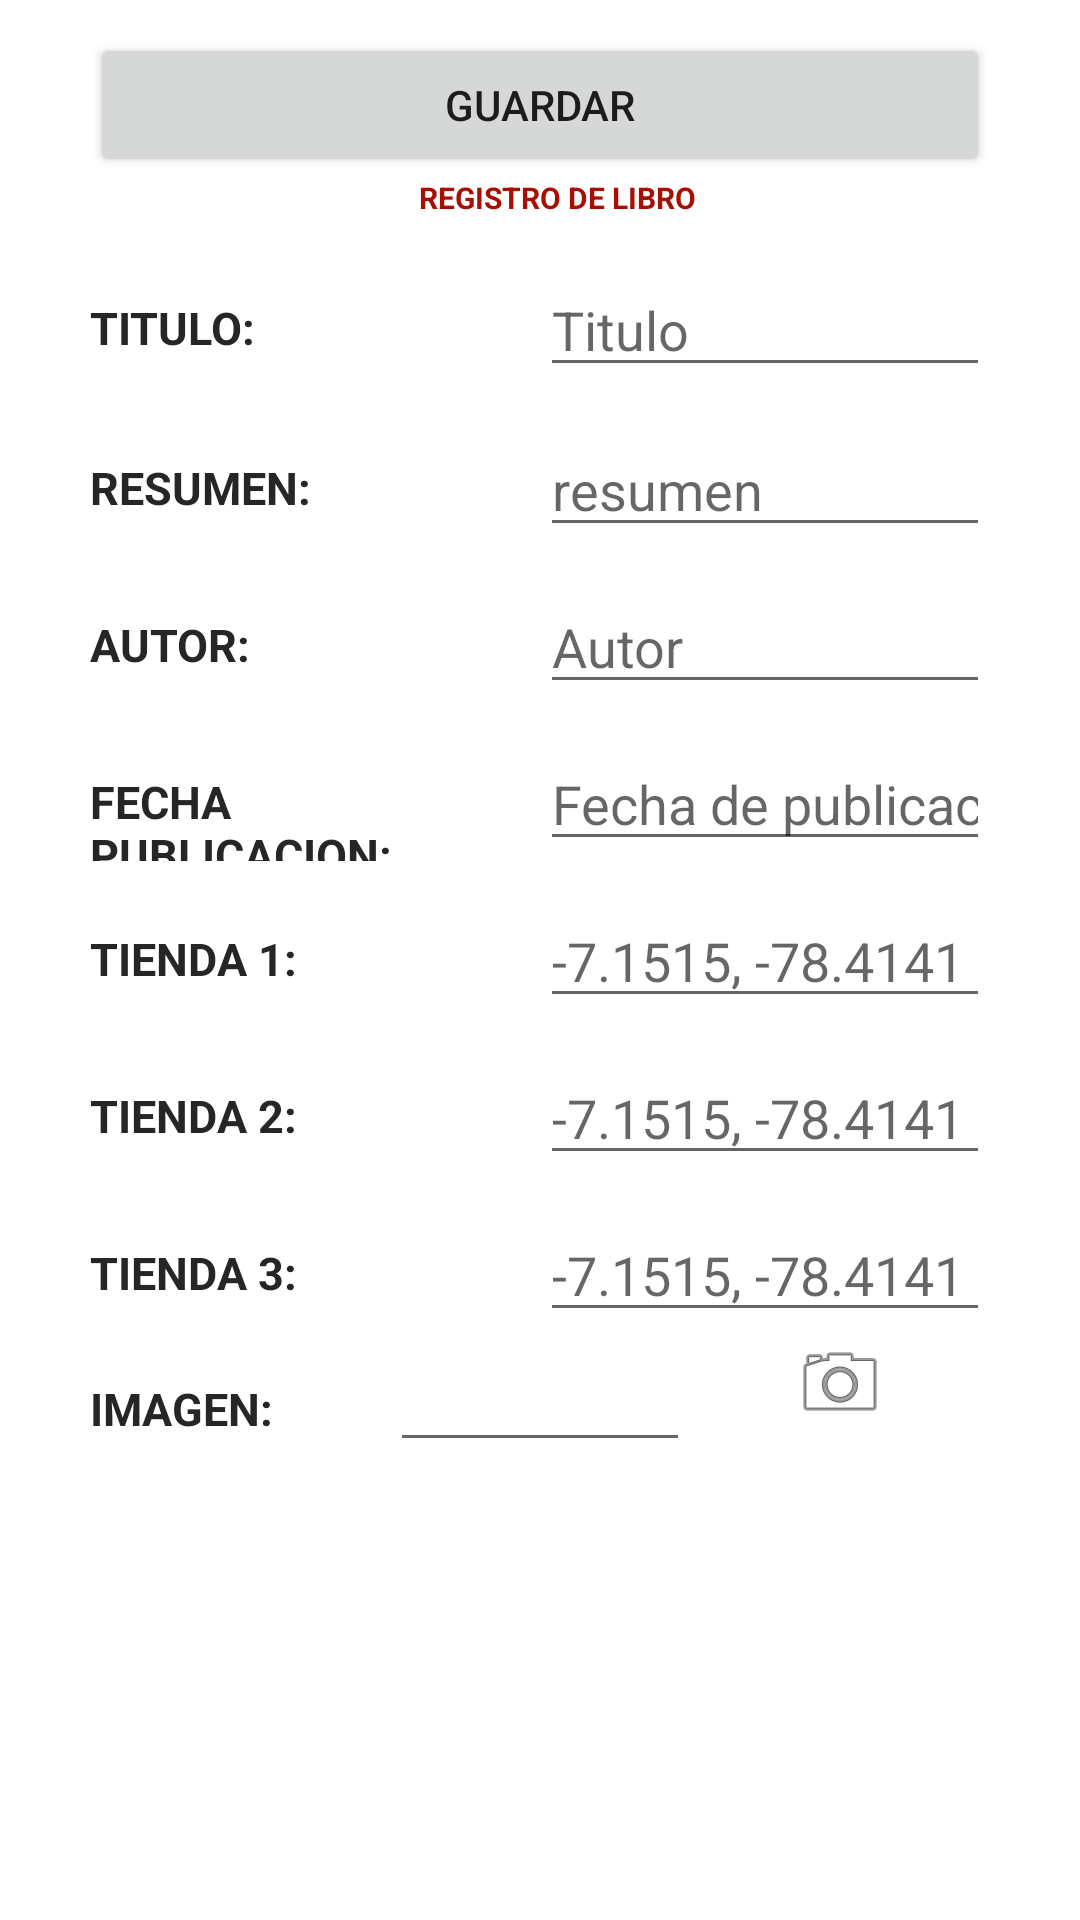

Where icons sit on this 1080px×1920px app screen, as (x1, y1, x2, y2):
camera: (803, 1352, 877, 1411)
